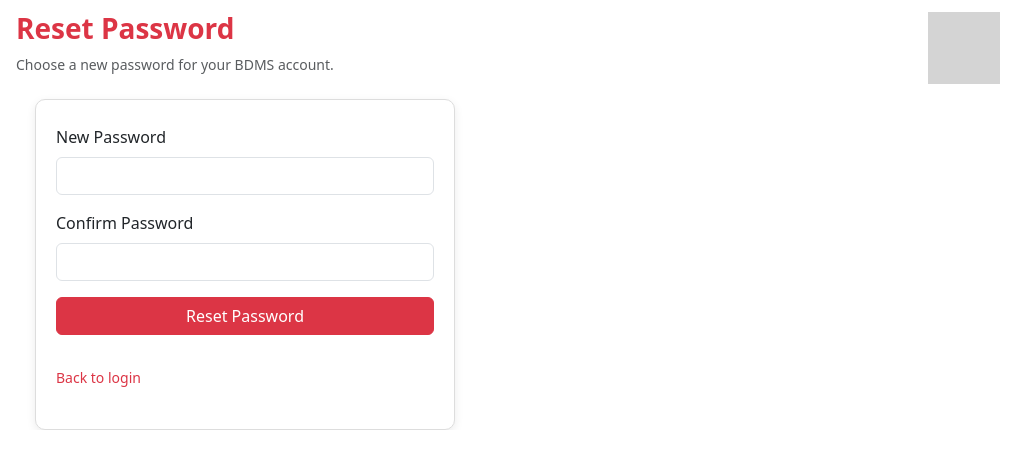
it: ResetPassword › posts new password and navigates to login after success
This screenshot has width=1017, height=468.
In the 1st password field: (245, 176) 56,157 -> 434,195, type "Password1!"
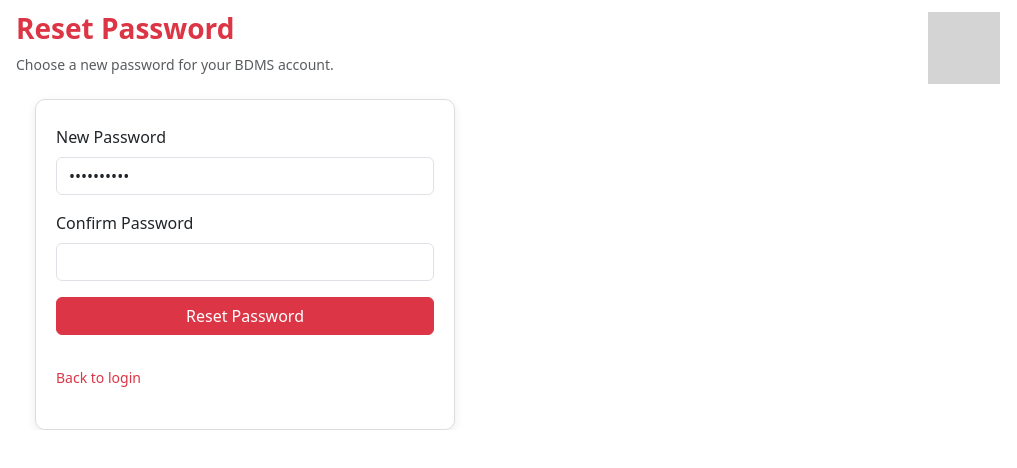
In the password field below "Confirm Password": (245, 262) 56,243 -> 434,281, type "Password1!"
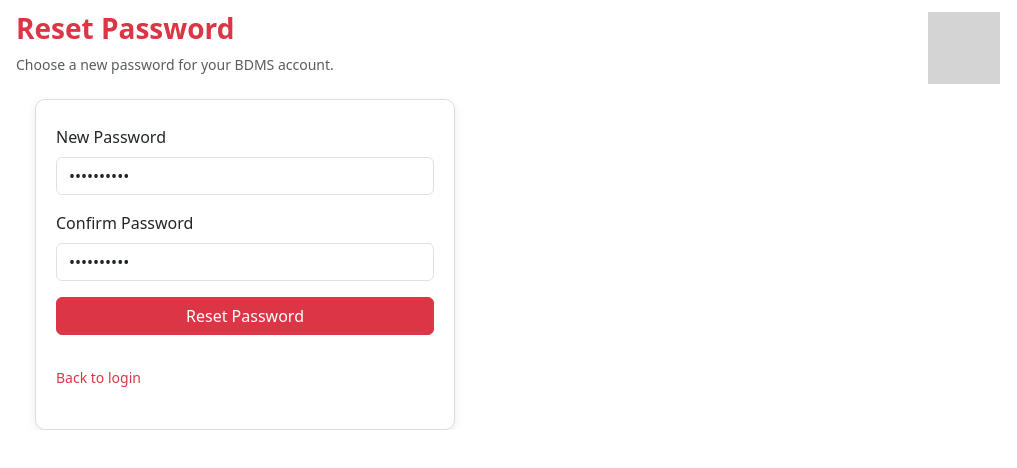
Submit the form, box 56,125 -> 434,351
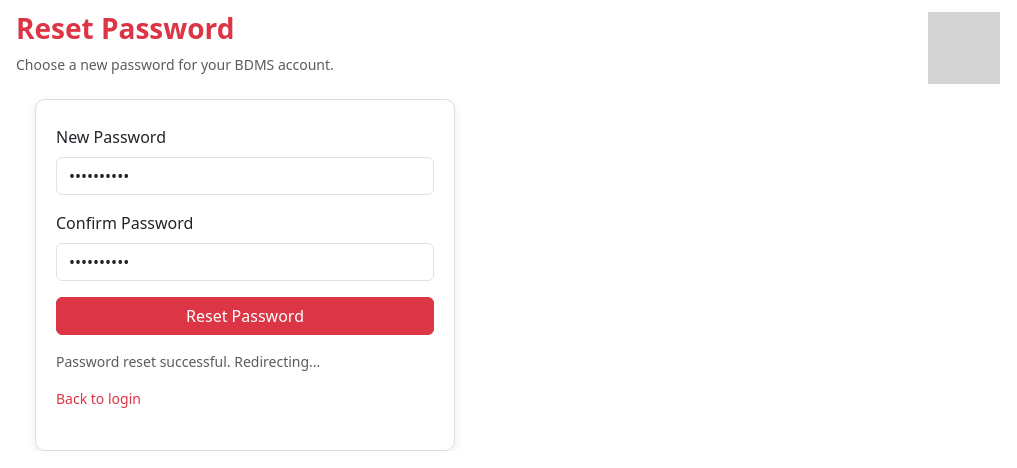
Check: the text "Password reset successful. Redirecting..." is shown, box 56,352 -> 320,371
